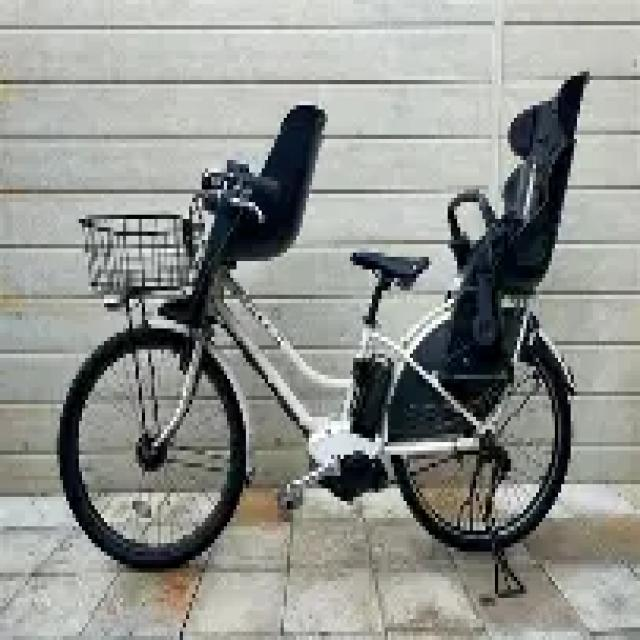basket: (74, 208, 198, 289)
battery: (353, 354, 392, 438)
childseat: (431, 67, 592, 431), (179, 103, 330, 323)
